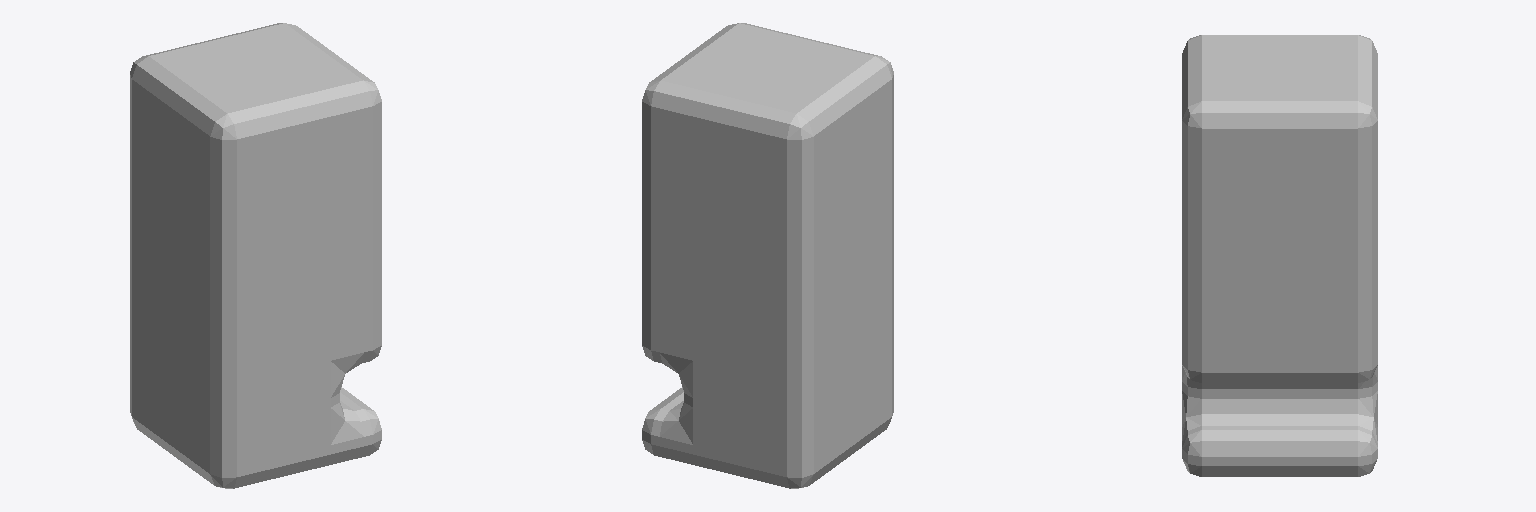
File: RightArm.obj
3 renders of one model, left to right at view 1: azimuth 30°, elevation 25°; view 2: azimuth 150°, elevation 25°; view 3: azimuth 270°, elevation 25°, orthographic.
Visible parts, largest first — view 1: LEFTARM.001; view 2: LEFTARM.001; view 3: LEFTARM.001.
Part boxes in pixels (x1,y1,x2,y2): LEFTARM.001: (130,23,381,488); LEFTARM.001: (642,23,893,488); LEFTARM.001: (1182,35,1377,476).
Size of the model in its own units: 1 by 2.11 by 1.